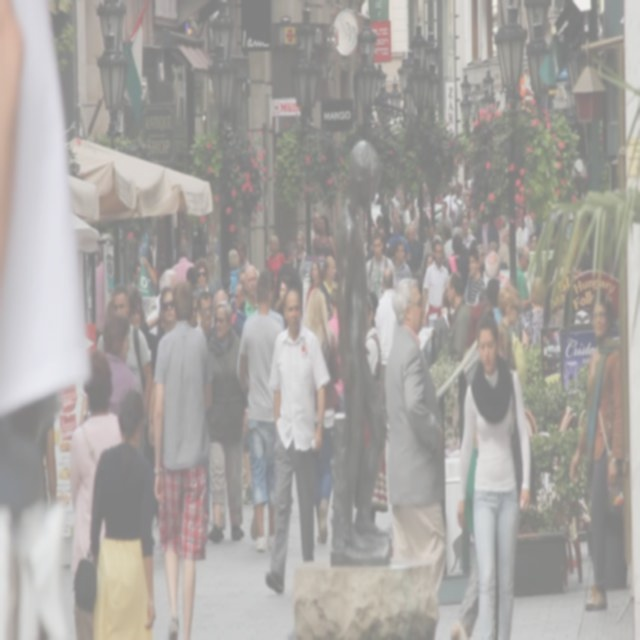pessoa: (1, 1, 92, 639), (329, 130, 402, 566), (454, 311, 535, 638), (150, 276, 215, 639), (262, 285, 332, 596), (565, 285, 630, 612), (382, 273, 448, 595), (86, 382, 162, 638), (237, 268, 286, 556), (68, 348, 122, 581), (207, 297, 250, 544), (94, 280, 154, 455), (304, 286, 341, 546), (400, 180, 467, 270), (185, 250, 258, 332), (467, 204, 512, 312), (148, 284, 176, 448), (262, 224, 305, 322), (101, 310, 140, 418), (374, 265, 398, 428), (432, 286, 456, 436), (492, 282, 524, 374), (420, 236, 450, 330), (443, 269, 471, 364), (304, 202, 329, 286), (520, 274, 547, 349), (125, 281, 161, 336), (515, 241, 536, 316), (240, 401, 253, 516), (512, 208, 540, 244)
